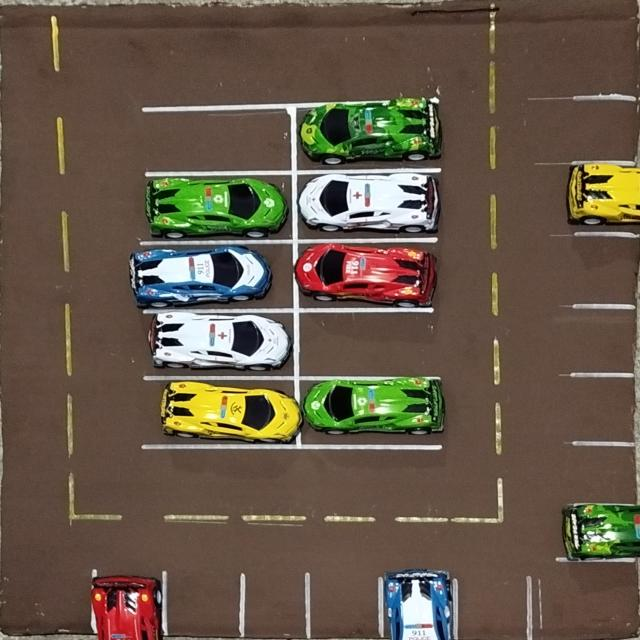libre: (140, 108, 294, 173), (294, 309, 439, 376), (0, 567, 97, 640), (166, 570, 246, 640), (306, 569, 381, 640), (456, 572, 531, 640), (578, 231, 640, 305), (574, 306, 640, 375), (575, 372, 640, 441), (244, 569, 307, 640), (577, 98, 640, 163), (575, 442, 640, 503)
no_estacionarse: (536, 564, 640, 640)
ocupado: (138, 379, 300, 447), (138, 242, 297, 310), (297, 378, 446, 450), (138, 174, 294, 242), (140, 310, 296, 378), (295, 171, 441, 238), (296, 242, 438, 310), (297, 105, 446, 168), (566, 161, 640, 232), (382, 569, 455, 640), (562, 501, 640, 562), (99, 568, 163, 640)
